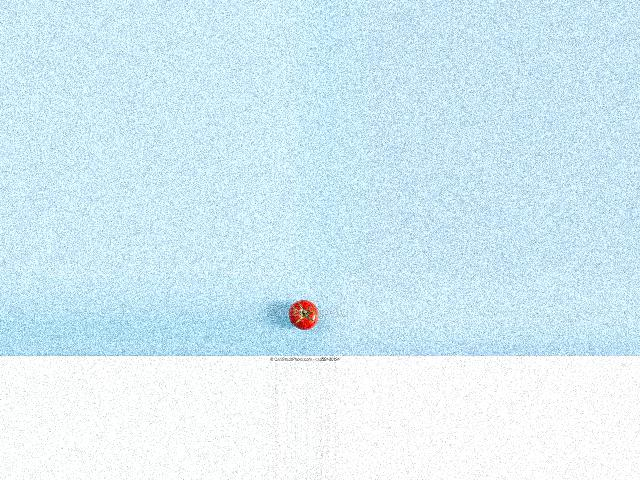tomato: (289, 300, 318, 331)
